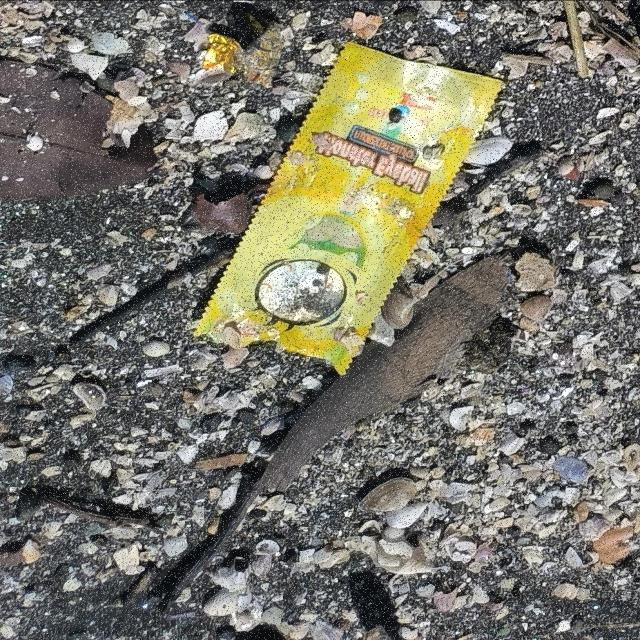plastic_waste: (192, 41, 508, 378)
